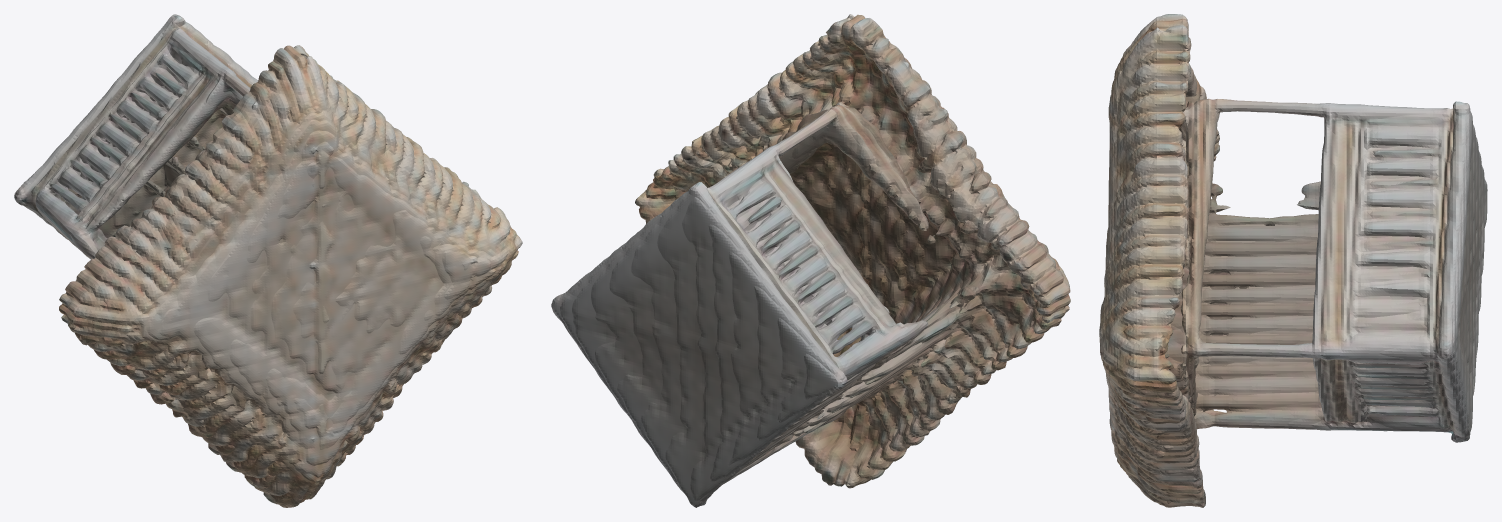
Rendered from kiosk.glb.
3 renders of one model, left to right at view 1: azimuth 30°, elevation 25°; view 2: azimuth 150°, elevation 25°; view 3: azimuth 270°, elevation 25°, orthographic. The views are drawn at different scales.
Visible parts, largest first — view 1: geometry_0; view 2: geometry_0; view 3: geometry_0.
Boxes of the visible parts, box(x1,y1,x2,y2) form: geometry_0: box(14, 14, 522, 507); geometry_0: box(551, 14, 1070, 507); geometry_0: box(1099, 14, 1487, 507).
Bounding box in the file's own units: 1.27 × 1.28 × 0.9229.
